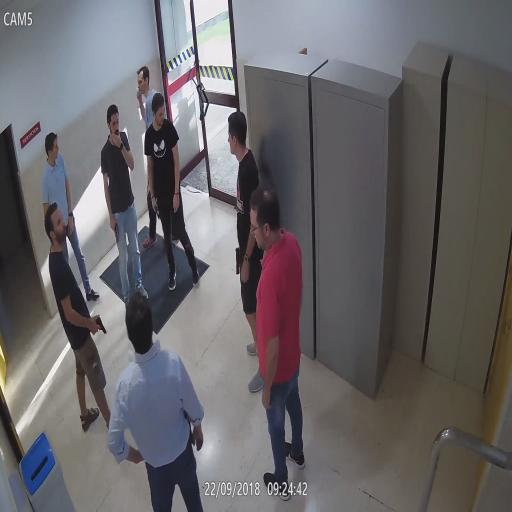Handgun: (90, 315, 108, 337), (185, 411, 194, 445), (110, 216, 120, 243), (152, 196, 162, 222), (235, 245, 242, 275)
